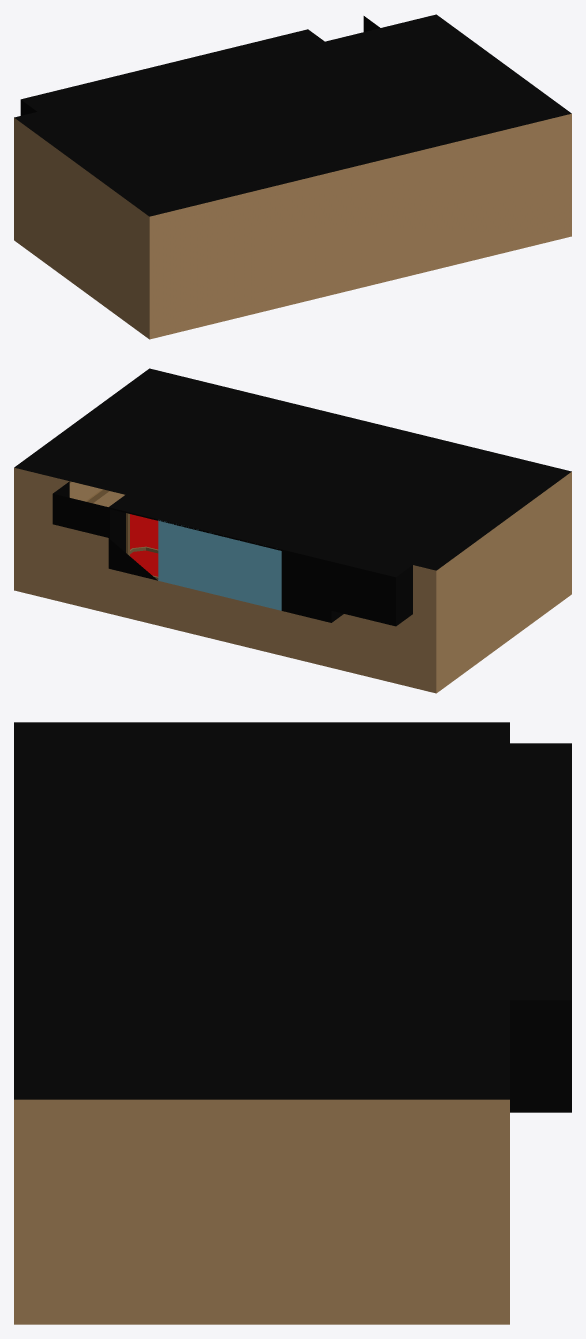
The model's file is BalconyStage.glb.
3 renders of one model, top to bottom at view 1: azimuth 30°, elevation 25°; view 2: azimuth 150°, elevation 25°; view 3: azimuth 270°, elevation 25°, orthographic. The views are drawn at different scales.
Parts seen in each view (by area): view 1: Walls, Valence Shell, Backdrop; view 2: Walls, Backdrop, Backdrop Image, Valence Shell, Balcony; view 3: Walls, Valence Shell, Backdrop.
Part boxes in pixels (bbox=[...]): Walls: bbox=[14, 14, 571, 339]; Valence Shell: bbox=[85, 29, 331, 102]; Backdrop: bbox=[20, 16, 379, 115]; Walls: bbox=[14, 368, 571, 693]; Backdrop: bbox=[52, 481, 412, 626]; Backdrop Image: bbox=[158, 520, 281, 610]; Valence Shell: bbox=[108, 488, 354, 619]; Balcony: bbox=[130, 546, 158, 579]; Walls: bbox=[14, 722, 509, 1324]; Valence Shell: bbox=[466, 801, 571, 1106]; Backdrop: bbox=[510, 743, 571, 1112].
Bounding box in the file's own units: 14.4 × 4 × 9.
